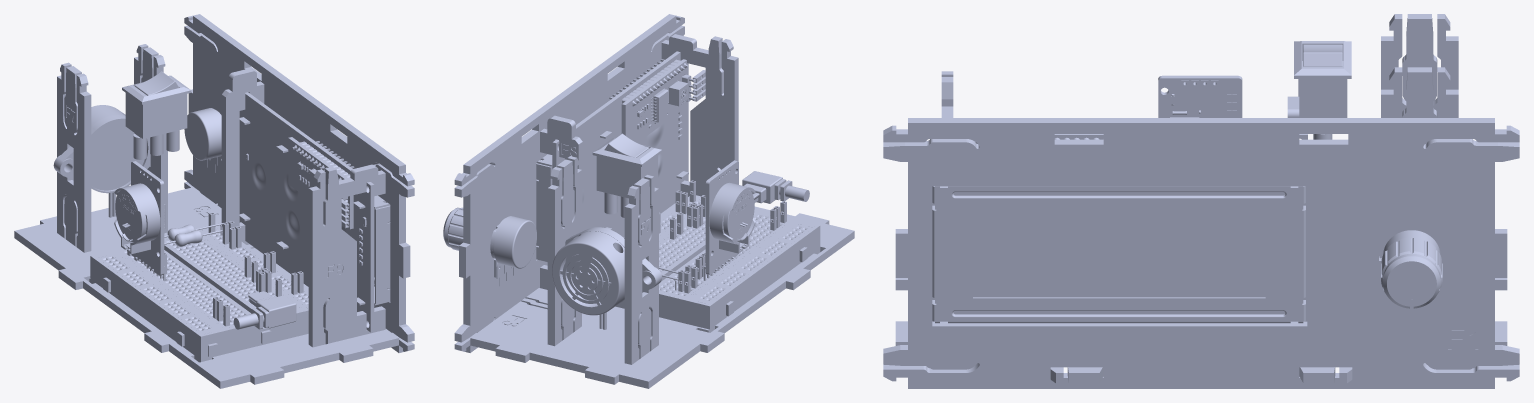
The model's file is lac-guide.glb.
3 renders of one model, left to right at view 1: azimuth 30°, elevation 25°; view 2: azimuth 150°, elevation 25°; view 3: azimuth 270°, elevation 25°, orthographic. The views are drawn at different scales.
Parts seen in each view (by area): view 1: NAUO187, NAUO1, NAUO10, NAUO2, NAUO45, NAUO42, NAUO46, NAUO62, NAUO44, NAUO3, NAUO11, NAUO122 (+3 smaller); view 2: NAUO10, NAUO2, NAUO187, NAUO1, NAUO45, NAUO62, NAUO42, NAUO43, NAUO46, NAUO3, NAUO11, NAUO44 (+6 smaller); view 3: NAUO10, NAUO187, NAUO186, NAUO42, NAUO46, NAUO13, NAUO3, NAUO43, NAUO2, NAUO45.
Boxes of the visible parts, left/top/right/bottom form: NAUO187: left=239, top=92, right=390, bottom=332; NAUO1: left=90, top=225, right=323, bottom=359; NAUO10: left=184, top=14, right=414, bottom=352; NAUO2: left=14, top=187, right=398, bottom=388; NAUO45: left=308, top=164, right=385, bottom=347; NAUO42: left=57, top=62, right=91, bottom=252; NAUO46: left=122, top=71, right=191, bottom=159; NAUO62: left=53, top=105, right=150, bottom=217; NAUO44: left=221, top=68, right=264, bottom=244; NAUO3: left=114, top=161, right=165, bottom=281; NAUO11: left=184, top=108, right=221, bottom=177; NAUO122: left=233, top=291, right=296, bottom=329; NAUO10: left=454, top=14, right=684, bottom=352; NAUO2: left=470, top=203, right=854, bottom=388; NAUO187: left=536, top=51, right=688, bottom=261; NAUO1: left=615, top=195, right=820, bottom=329; NAUO45: left=661, top=34, right=738, bottom=196; NAUO62: left=544, top=227, right=661, bottom=329; NAUO42: left=624, top=175, right=658, bottom=364; NAUO43: left=547, top=156, right=581, bottom=346; NAUO46: left=592, top=133, right=661, bottom=217; NAUO3: left=703, top=160, right=755, bottom=280; NAUO11: left=490, top=216, right=536, bottom=286; NAUO44: left=540, top=115, right=582, bottom=289; NAUO10: left=883, top=118, right=1519, bottom=388; NAUO187: left=932, top=134, right=1307, bottom=323; NAUO186: left=973, top=210, right=1265, bottom=297; NAUO42: left=1381, top=14, right=1458, bottom=117; NAUO46: left=1294, top=41, right=1351, bottom=139; NAUO13: left=1381, top=230, right=1442, bottom=308; NAUO3: left=1158, top=75, right=1242, bottom=117; NAUO43: left=1381, top=67, right=1458, bottom=143; NAUO2: left=895, top=278, right=1507, bottom=383; NAUO45: left=941, top=71, right=953, bottom=117.
Bounding box in the file's own units: 0.0996 × 0.0783 × 0.1652.
